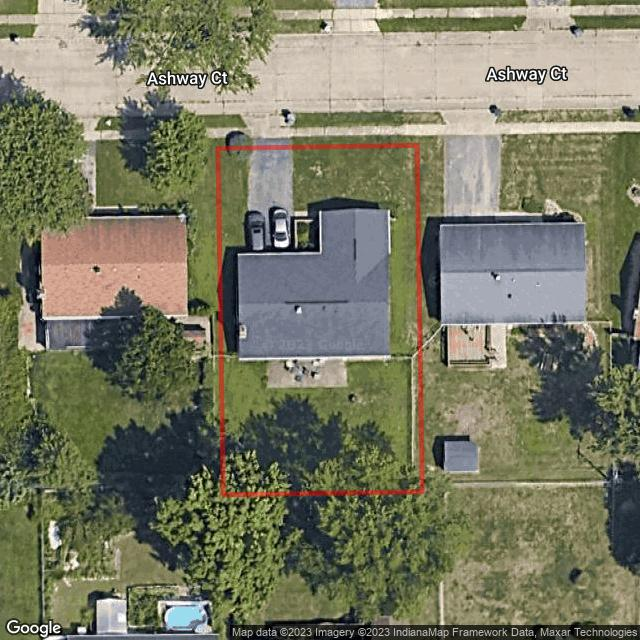Driveway: (247, 149, 294, 253)
Extra Driveway: (238, 112, 297, 145)
Extra Lawn: (291, 112, 417, 127), (292, 136, 418, 145), (214, 114, 247, 128), (215, 137, 247, 146)
Extra Sidewalk: (291, 126, 418, 137), (215, 128, 248, 138)
House: (238, 210, 390, 359)
Other: (267, 359, 348, 388)
Sidewalk: (293, 211, 319, 218)
